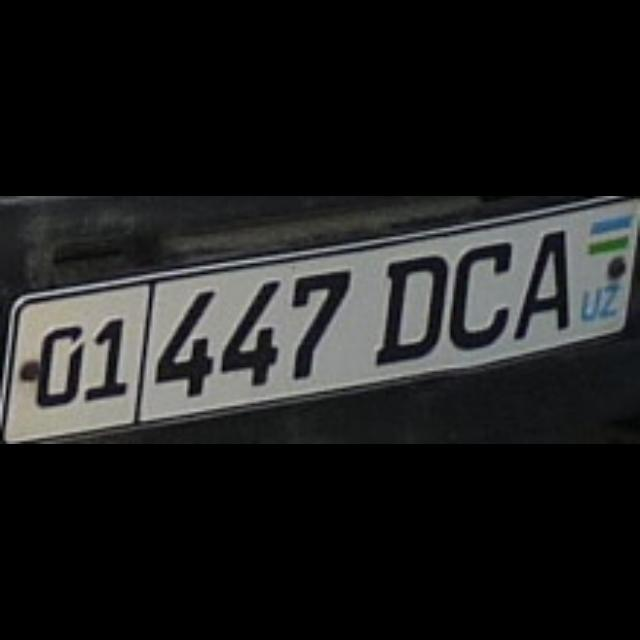0: (32, 322, 82, 406)
1: (85, 312, 123, 398)
4: (150, 284, 210, 394), (216, 278, 274, 382)
7: (290, 269, 348, 377)
A: (512, 228, 564, 334)
C: (447, 236, 505, 348)
D: (372, 254, 444, 360)
